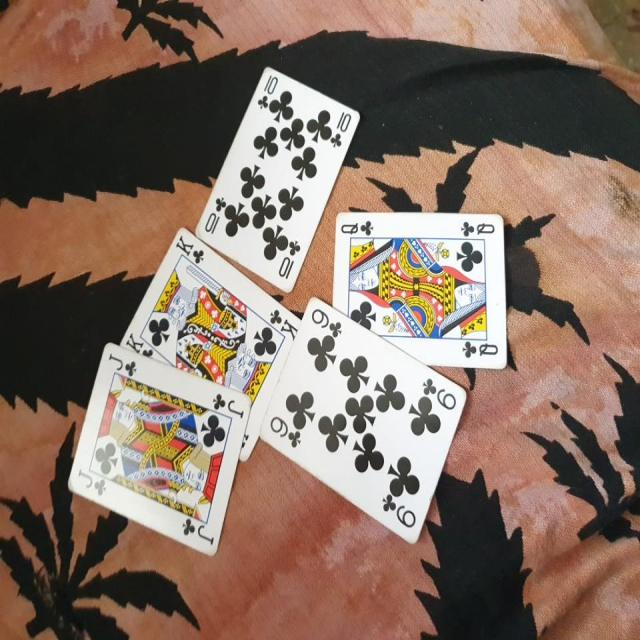10 Trefoils: (190, 64, 362, 295)
9 Trefoils: (258, 293, 467, 546)
J Trefoils: (65, 340, 252, 556)
K Trefoils: (116, 228, 299, 462)
Q Trefoils: (332, 210, 510, 369)
